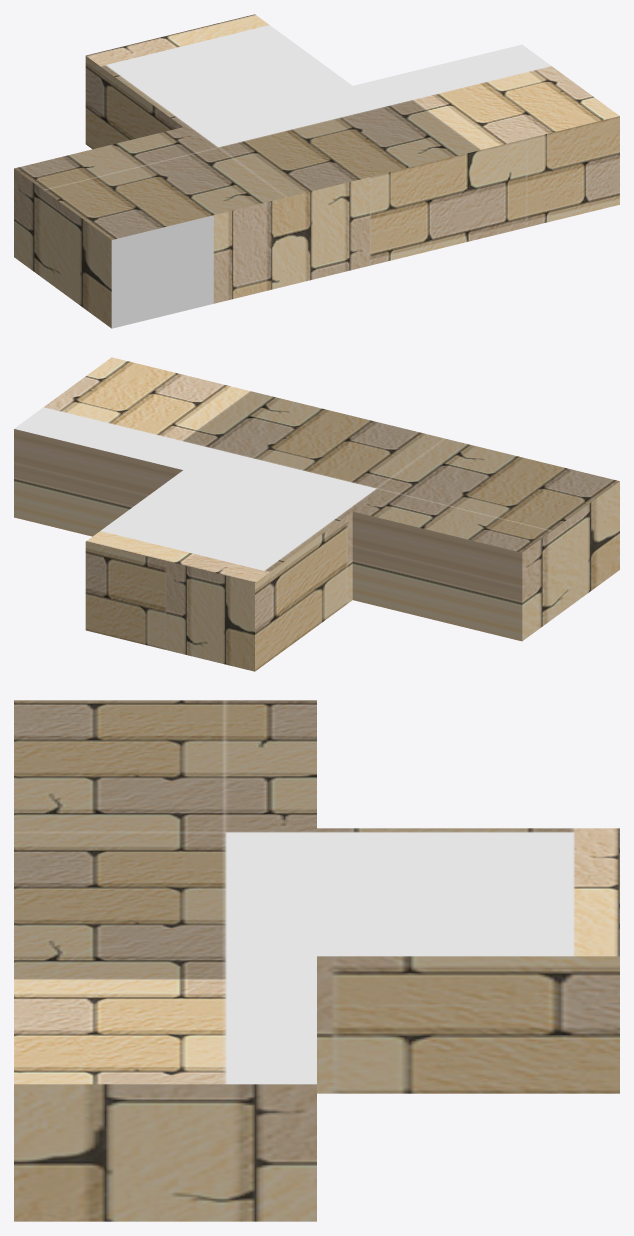
The model's file is blockT.fbx.
3 renders of one model, top to bottom at view 1: azimuth 30°, elevation 25°; view 2: azimuth 150°, elevation 25°; view 3: azimuth 270°, elevation 25°, orthographic. The views are drawn at different scales.
Visible parts, largest first — view 1: pCube1; view 2: pCube1; view 3: pCube1.
Part boxes in pixels (x1,y1,x2,y2): pCube1: [14, 14, 619, 328]; pCube1: [14, 357, 619, 671]; pCube1: [14, 700, 619, 1221].
Size of the model in its own units: 300 by 50 by 200.
